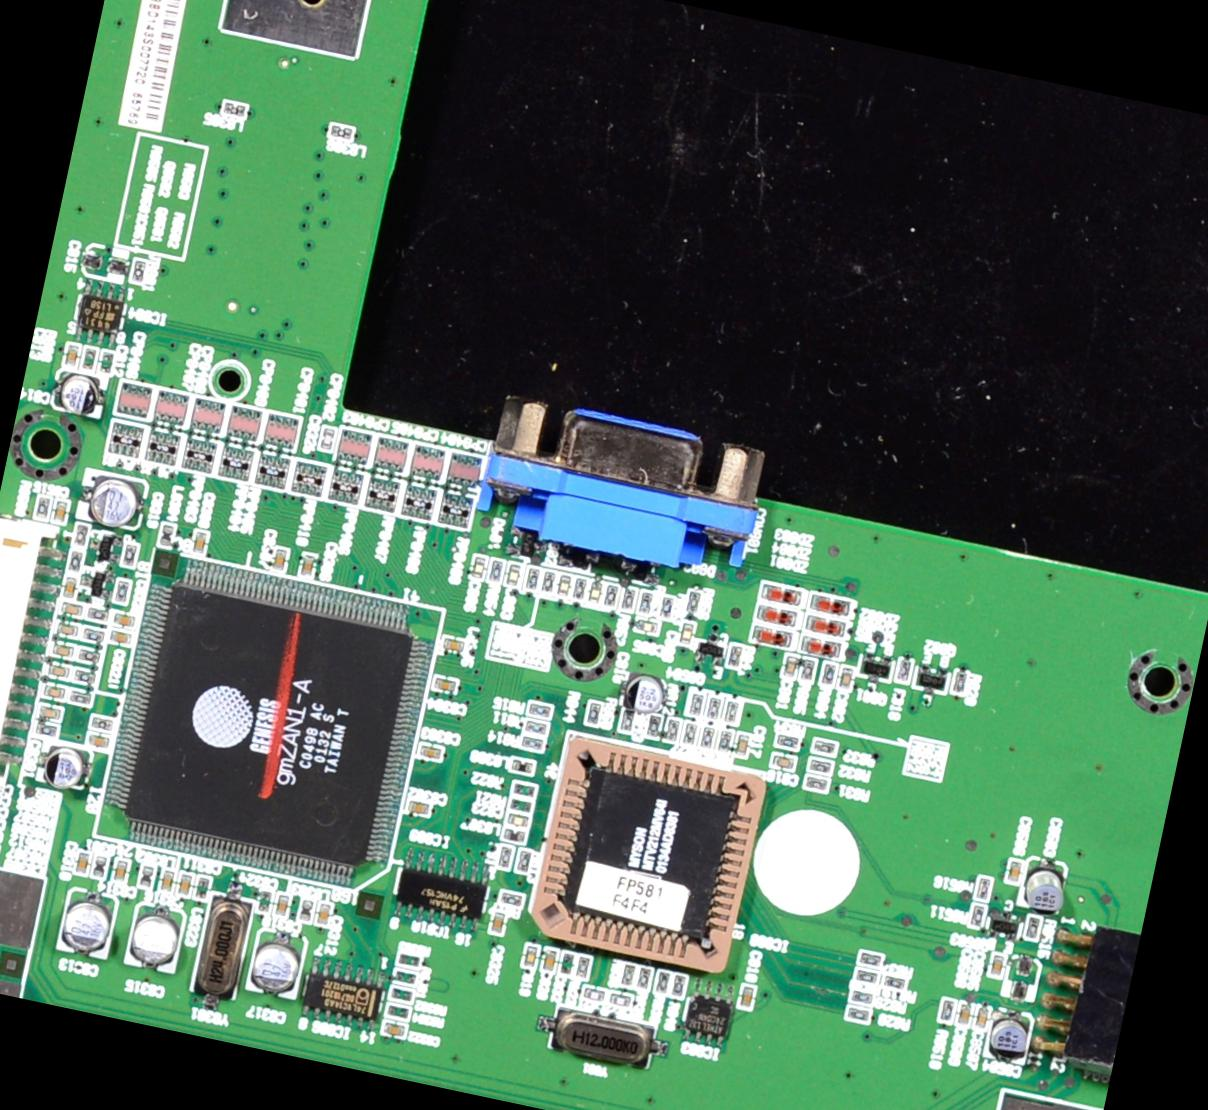Capacitor Jumper: (53, 890, 116, 961), (123, 908, 182, 972), (49, 367, 110, 424), (249, 933, 305, 995), (1019, 859, 1068, 917), (988, 1012, 1033, 1067), (294, 551, 324, 582), (378, 1020, 411, 1046), (984, 952, 1010, 985), (48, 639, 81, 664), (500, 807, 532, 832), (106, 625, 136, 652), (579, 982, 610, 1007), (52, 617, 84, 641), (60, 571, 83, 604), (55, 600, 87, 623), (733, 983, 759, 1012), (403, 795, 434, 820), (607, 987, 636, 1012), (49, 498, 73, 528), (556, 574, 578, 606), (1003, 856, 1025, 888), (519, 942, 542, 971), (267, 544, 289, 574), (71, 849, 92, 881), (953, 1000, 975, 1029), (503, 562, 525, 590), (112, 612, 140, 634), (41, 681, 69, 703), (586, 579, 607, 608), (417, 744, 449, 763), (175, 868, 195, 899), (62, 341, 83, 369), (538, 944, 558, 973), (835, 665, 855, 694), (471, 554, 494, 581), (99, 348, 119, 377), (38, 700, 66, 720), (314, 903, 333, 932), (557, 950, 578, 976), (442, 633, 468, 654), (489, 912, 510, 939), (429, 677, 457, 697), (156, 867, 174, 897), (109, 857, 127, 887), (632, 618, 662, 635), (193, 530, 210, 560), (46, 663, 74, 682), (271, 894, 291, 920), (84, 732, 109, 752), (973, 1005, 991, 1032), (677, 623, 697, 647), (770, 754, 797, 770), (734, 734, 752, 755), (784, 655, 799, 681)
IC: (93, 546, 448, 897), (524, 730, 768, 974), (385, 847, 498, 941), (298, 954, 390, 1040), (63, 274, 133, 351)
Resistor Jumper: (701, 690, 726, 725), (718, 695, 744, 728), (798, 658, 825, 688), (685, 583, 706, 618), (717, 723, 738, 756), (853, 968, 885, 990), (601, 582, 623, 611), (973, 874, 995, 904), (697, 722, 718, 752), (967, 902, 988, 932), (880, 974, 909, 995), (685, 689, 704, 722), (112, 577, 132, 607), (87, 713, 116, 734), (859, 951, 889, 970), (31, 493, 52, 521), (85, 606, 113, 627), (523, 718, 550, 739), (726, 639, 746, 667), (805, 756, 833, 776), (519, 734, 547, 754), (68, 688, 94, 710), (682, 721, 702, 748), (71, 667, 99, 686), (810, 738, 835, 759), (644, 713, 665, 739), (774, 733, 804, 751), (804, 772, 828, 793), (657, 596, 677, 621), (72, 520, 90, 546), (584, 699, 602, 726), (79, 644, 101, 666), (619, 709, 640, 732), (664, 718, 682, 744), (511, 780, 538, 798), (939, 997, 957, 1024), (120, 541, 139, 565), (35, 723, 59, 741), (823, 664, 840, 689), (81, 629, 106, 645), (69, 546, 85, 569), (637, 591, 655, 611), (526, 702, 550, 717), (544, 569, 557, 593), (528, 568, 539, 589), (623, 585, 633, 605)
